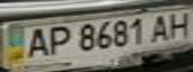1: (127, 16, 151, 46)
6: (93, 19, 115, 51)
8: (75, 20, 96, 53), (112, 17, 133, 48)
A: (21, 25, 51, 60), (148, 11, 175, 43)
H: (163, 9, 193, 39)
P: (42, 24, 72, 56)
